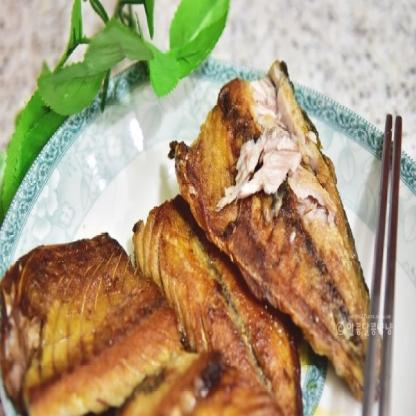Peixe: (3, 75, 371, 416)
